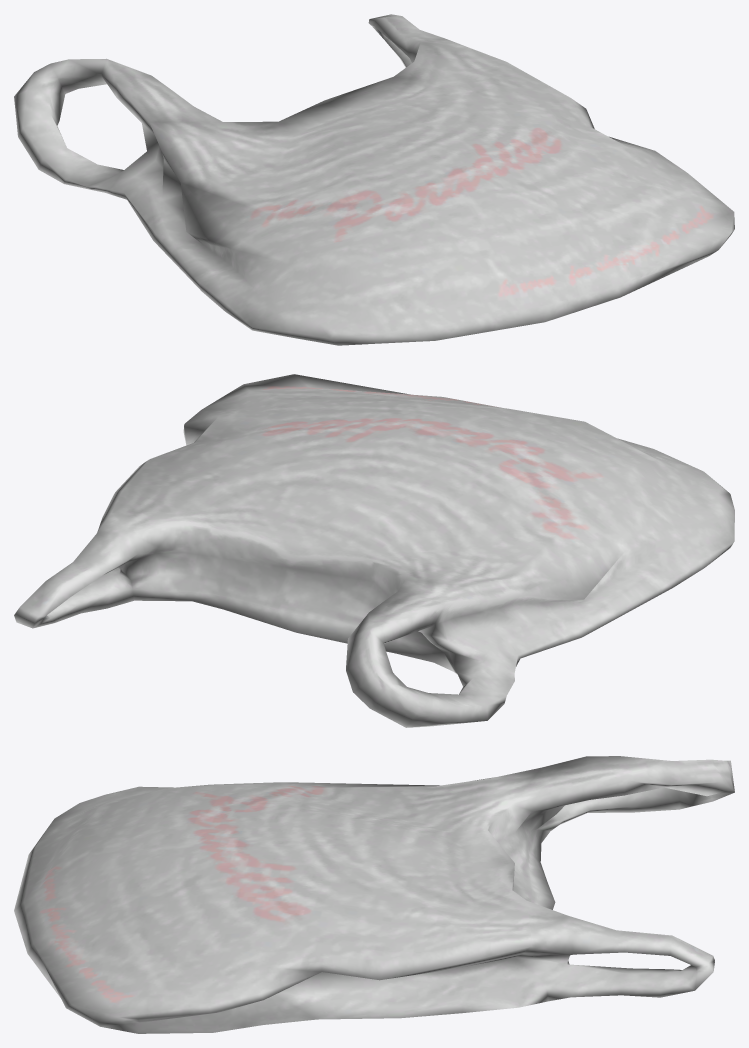
File: trashPlasticBag03.FBX
3 views of the same model, one above another, from view 1: azimuth 30°, elevation 25°; view 2: azimuth 150°, elevation 25°; view 3: azimuth 270°, elevation 25° (orthographic). The views are drawn at different scales.
Parts seen in each view (by area): view 1: SM_TrashPlasticBag03; view 2: SM_TrashPlasticBag03; view 3: SM_TrashPlasticBag03.
Part boxes in pixels (x1,y1,x2,y2): SM_TrashPlasticBag03: (14,14,734,345); SM_TrashPlasticBag03: (14,374,734,727); SM_TrashPlasticBag03: (14,756,734,1033).
Bounding box in the file's own units: 31.34 × 5.29 × 39.01.
Materials: 1 (1 with a texture image).
